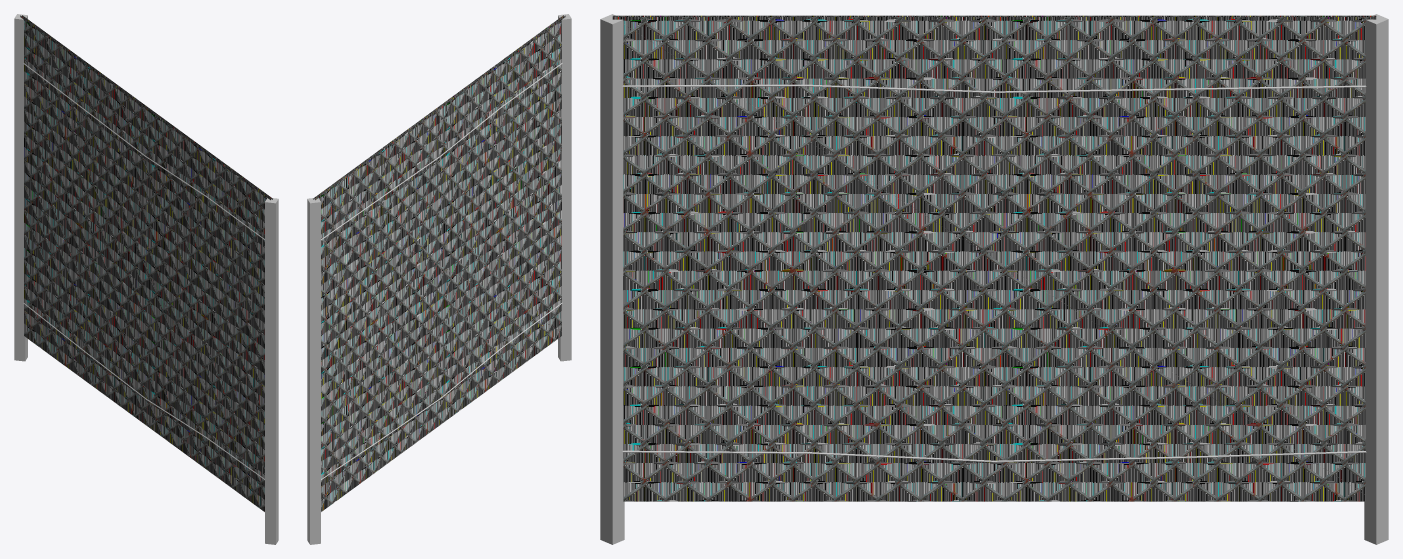
Rendered from bz_fence_wire_01.fbx.
The picture shows the model from 3 angles, left to right: view 1: azimuth 30°, elevation 25°; view 2: azimuth 150°, elevation 25°; view 3: azimuth 270°, elevation 25°; orthographic projection. The views are drawn at different scales.
Visible parts, largest first — view 1: bz_fence_wire_01, Cylinder; view 2: bz_fence_wire_01, Cylinder; view 3: bz_fence_wire_01, Cylinder.
Part boxes in pixels (x1,y1,x2,y2): bz_fence_wire_01: [20, 15, 272, 511]; Cylinder: [14, 14, 278, 544]; bz_fence_wire_01: [313, 15, 565, 511]; Cylinder: [307, 14, 571, 544]; bz_fence_wire_01: [612, 15, 1376, 501]; Cylinder: [600, 14, 1388, 544].
Bounding box in the file's own units: 8 × 189 × 258.
